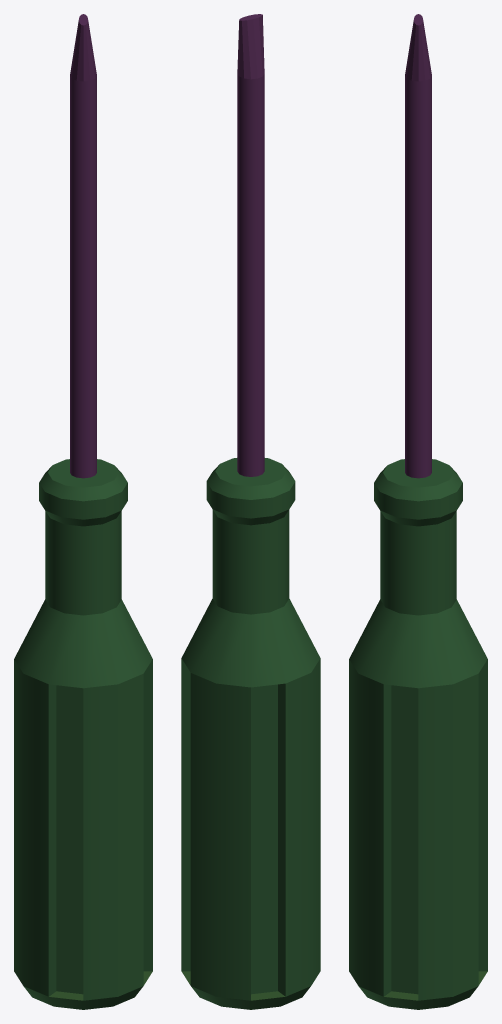
Rendered from staticMesh_prop_ScrewDriver.fbx.
The picture shows the model from 3 angles, left to right: view 1: azimuth 90°, elevation 25°; view 2: azimuth 210°, elevation 25°; view 3: azimuth 270°, elevation 25°; orthographic projection.
Parts seen in each view (by area): view 1: pCylinder1; view 2: pCylinder1; view 3: pCylinder1.
Part boxes in pixels (x1,y1,x2,y2): pCylinder1: (14,14,152,1009); pCylinder1: (181,14,320,1009); pCylinder1: (349,14,487,1009).
Size of the model in its own units: 12.61 by 96.82 by 12.61.
